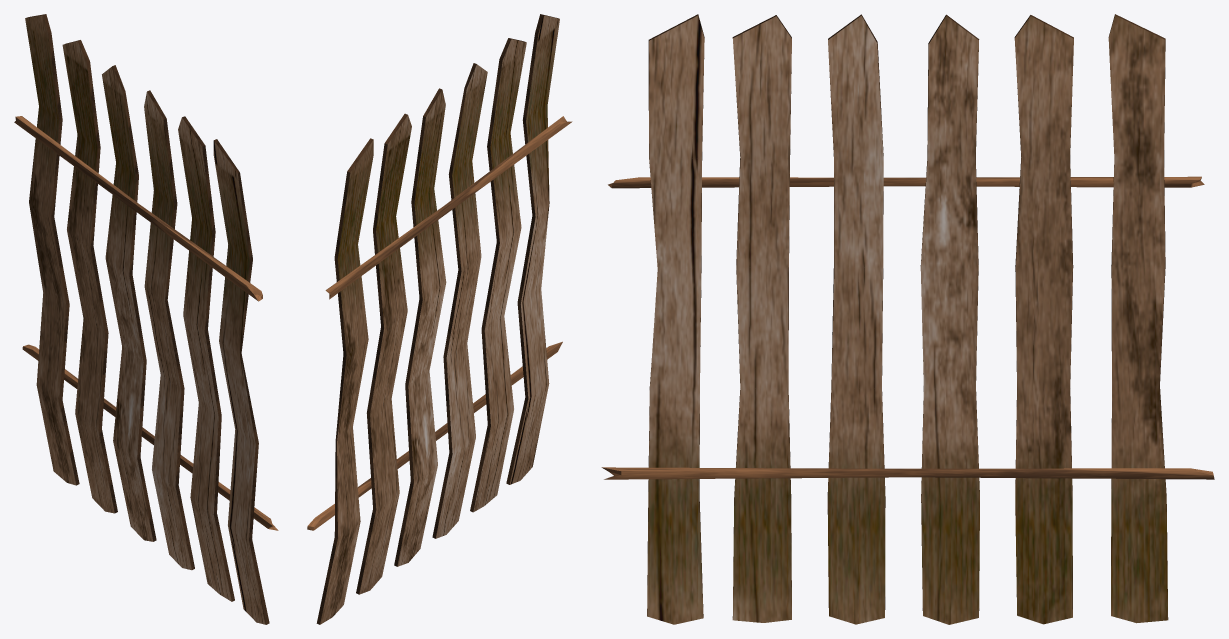
File: fence.fbx
The picture shows the model from 3 angles, left to right: view 1: azimuth 30°, elevation 25°; view 2: azimuth 150°, elevation 25°; view 3: azimuth 270°, elevation 25°; orthographic projection. The views are drawn at different scales.
Parts seen in each view (by area): view 1: vertical, along; view 2: vertical, along; view 3: vertical, along.
Part boxes in pixels (bbox=[...]): vertical: bbox=[25, 14, 269, 624]; along: bbox=[14, 116, 278, 530]; vertical: bbox=[316, 14, 559, 624]; along: bbox=[307, 116, 572, 530]; vertical: bbox=[647, 14, 1168, 624]; along: bbox=[601, 176, 1214, 479].
Bounding box in the file's own units: 16.31 × 208 × 196.
2 materials, 2 textured.
